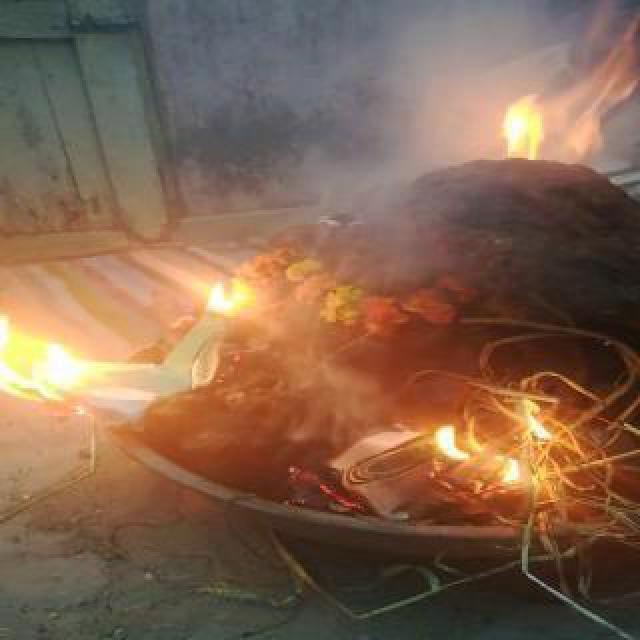Fire: (506, 30, 632, 162), (2, 308, 138, 418), (438, 400, 556, 486), (188, 264, 264, 330)
Smoke: (300, 4, 514, 288), (262, 296, 412, 452)
